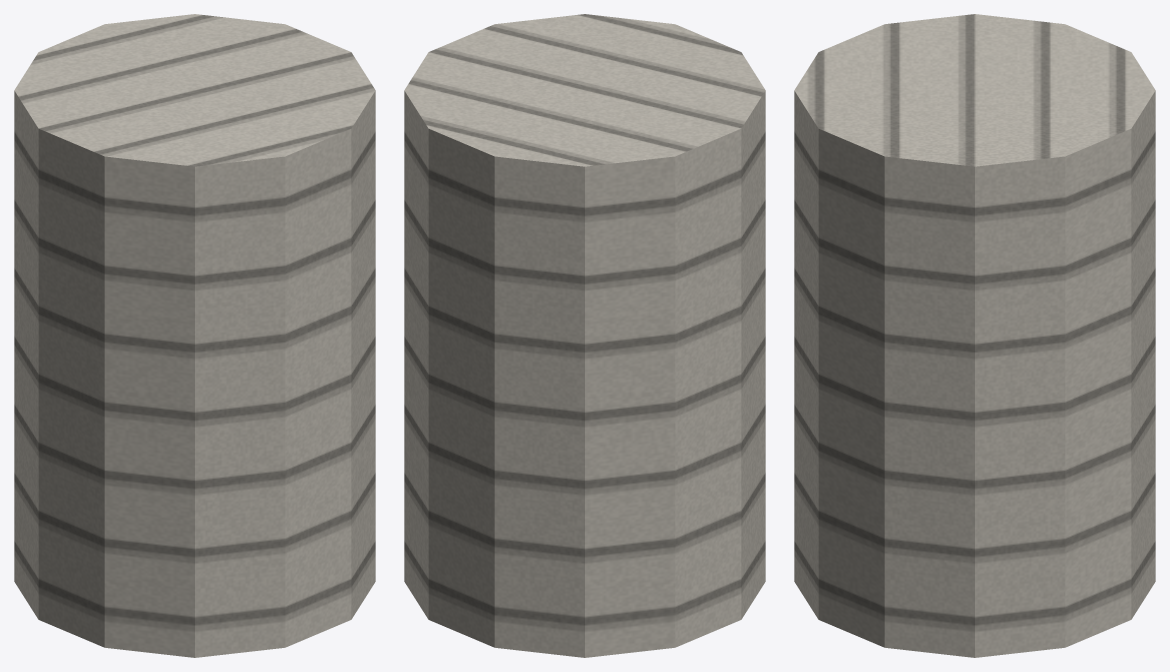
The model's file is milk_can_bulk_tank.glb.
The picture shows the model from 3 angles, left to right: view 1: azimuth 30°, elevation 25°; view 2: azimuth 150°, elevation 25°; view 3: azimuth 270°, elevation 25°; orthographic projection.
Parts seen in each view (by area): view 1: milk_can_bulk_tank-col; view 2: milk_can_bulk_tank-col; view 3: milk_can_bulk_tank-col.
Part boxes in pixels (x1=…): milk_can_bulk_tank-col: x1=14, y1=14, x2=375, y2=657; milk_can_bulk_tank-col: x1=404, y1=14, x2=765, y2=657; milk_can_bulk_tank-col: x1=794, y1=14, x2=1155, y2=657.
Bounding box in the file's own units: 0.6 × 0.9 × 0.6.
1 material, 1 textured.
